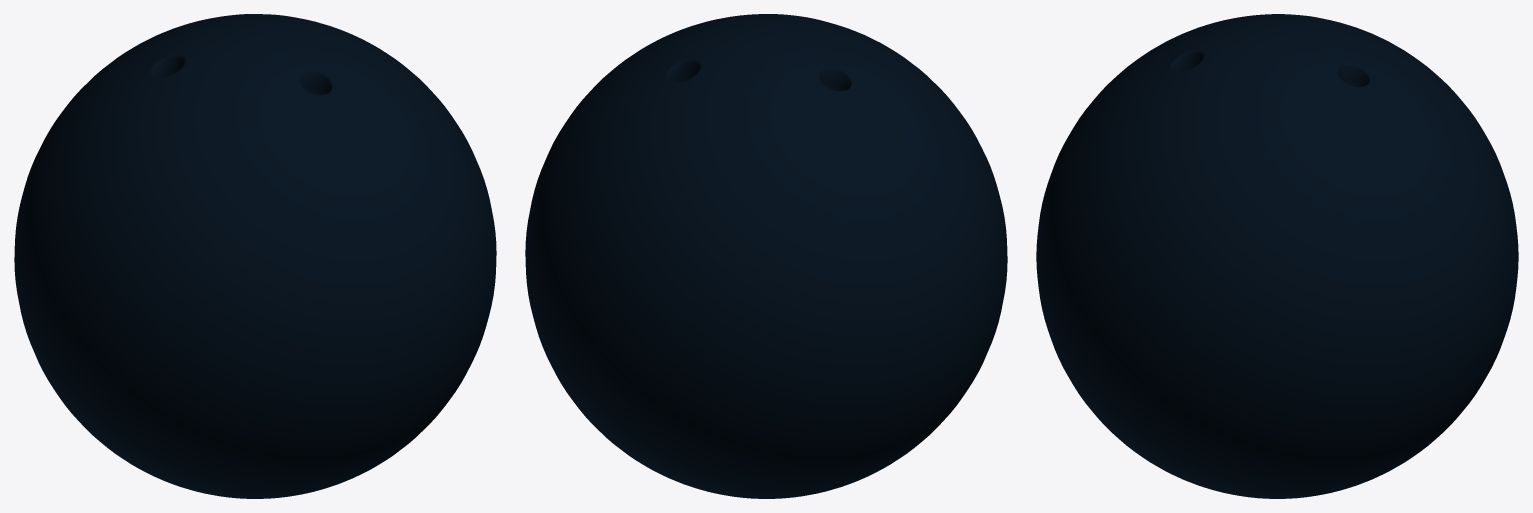
Rendered from bowling.glb.
The picture shows the model from 3 angles, left to right: view 1: azimuth 30°, elevation 25°; view 2: azimuth 150°, elevation 25°; view 3: azimuth 270°, elevation 25°; orthographic projection.
Visible parts, largest first — view 1: Sphere.001; view 2: Sphere.001; view 3: Sphere.001.
Part boxes in pixels (left/top/right/bottom): Sphere.001: left=14, top=14, right=496, bottom=498; Sphere.001: left=525, top=14, right=1007, bottom=498; Sphere.001: left=1036, top=14, right=1518, bottom=498.
Bounding box in the file's own units: 1.98 × 2 × 1.98.
